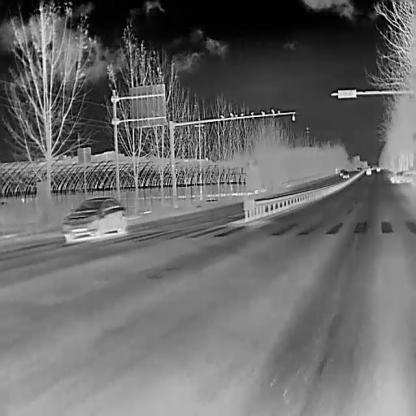car: (61, 195, 127, 242), (388, 168, 412, 183), (341, 169, 349, 178), (365, 166, 371, 174), (338, 168, 344, 176), (375, 165, 380, 171), (355, 166, 359, 171)
